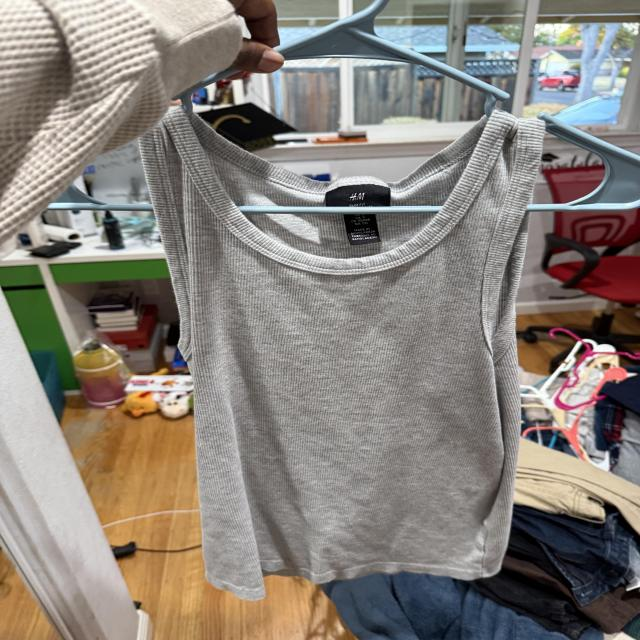back_tag: (322, 186, 402, 246)
